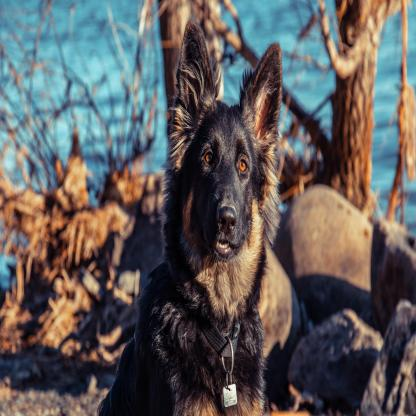dog: (89, 16, 282, 416)
